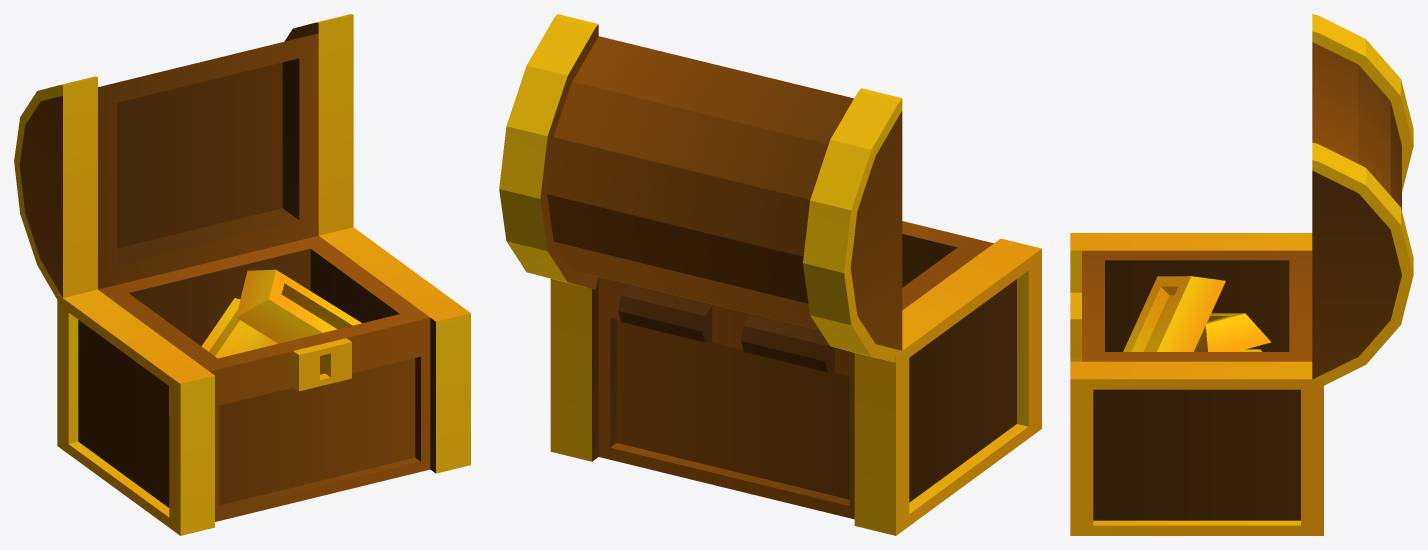
Rendered from GAM0110031.fbx.
The picture shows the model from 3 angles, left to right: view 1: azimuth 30°, elevation 25°; view 2: azimuth 150°, elevation 25°; view 3: azimuth 270°, elevation 25°; orthographic projection. The views are drawn at different scales.
Parts seen in each view (by area): view 1: smGAM0110031; view 2: smGAM0110031; view 3: smGAM0110031.
Part boxes in pixels (x1=…): smGAM0110031: x1=14, y1=14, x2=470, y2=535; smGAM0110031: x1=499, y1=14, x2=1041, y2=535; smGAM0110031: x1=1070, y1=14, x2=1413, y2=535.
Size of the model in its own units: 162 by 194 by 161.
1 material, 1 textured.
